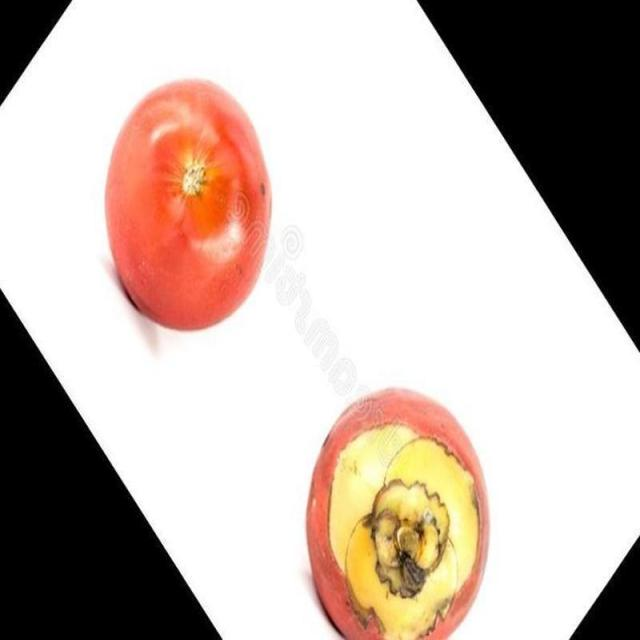good: (305, 389, 490, 639), (103, 78, 274, 335)
